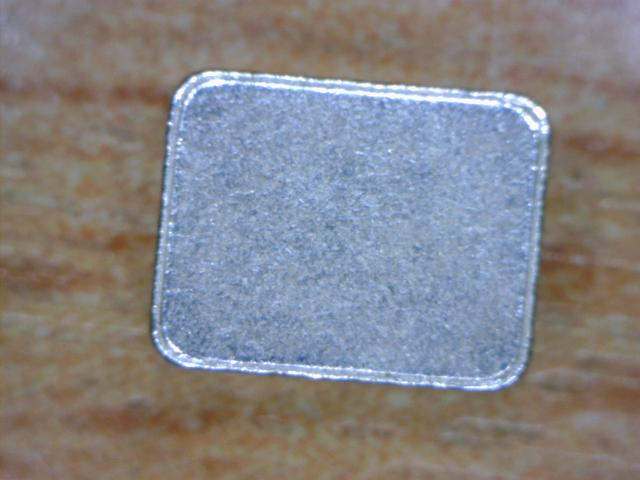nok: (147, 65, 557, 404)
